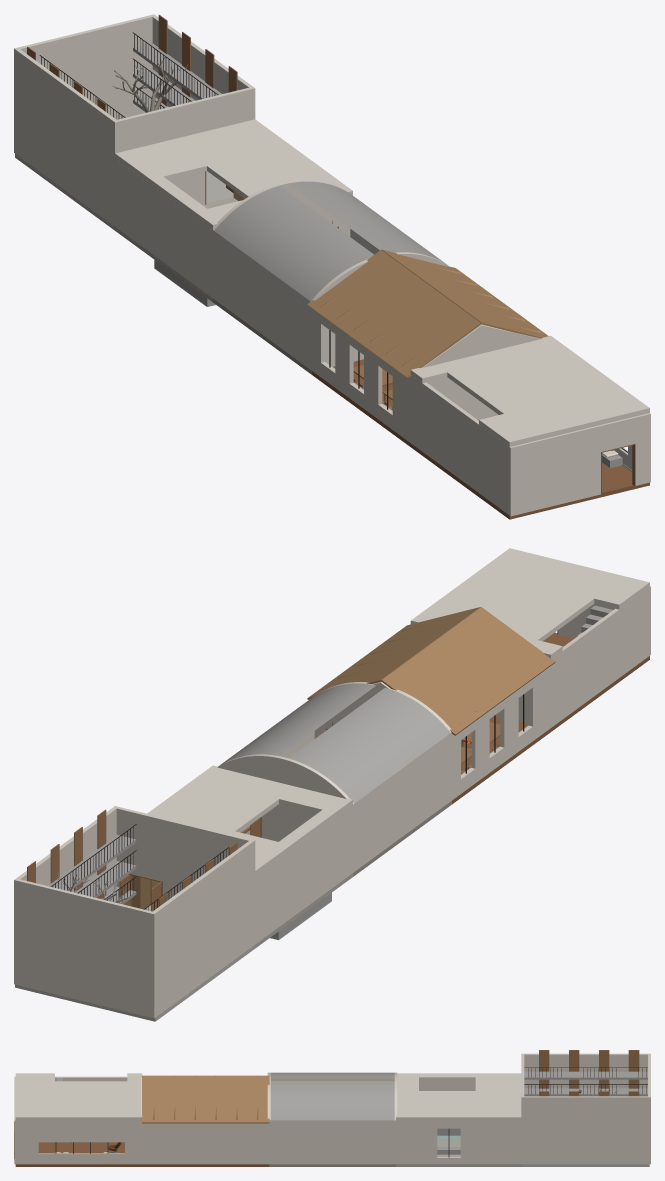
The model's file is orrel.glb.
The picture shows the model from 3 angles, top to bottom: view 1: azimuth 30°, elevation 25°; view 2: azimuth 150°, elevation 25°; view 3: azimuth 270°, elevation 25°; orthographic projection. The views are drawn at different scales.
Parts seen in each view (by area): view 1: plaster, roof_plaster, concrete, roof_timber, floor, oak, dark, stone, bark; view 2: plaster, roof_plaster, concrete, roof_timber, oak, dark, floor, timber, stone; view 3: plaster, roof_plaster, concrete, roof_timber, oak, floor, dark, tile, stone, cellar.
Part boxes in pixels (box(x1,y1,x2,y2)): plaster: box(14, 14, 650, 516); roof_plaster: box(115, 119, 649, 446); concrete: box(133, 43, 622, 468); roof_timber: box(307, 249, 548, 378); floor: box(312, 359, 649, 519); oak: box(27, 14, 635, 494); dark: box(39, 32, 627, 452); stone: box(15, 154, 627, 455); bark: box(113, 57, 188, 112); plaster: box(14, 586, 650, 1018); roof_plaster: box(147, 548, 649, 875); concrete: box(47, 605, 612, 939); roof_timber: box(307, 607, 555, 735); oak: box(27, 630, 558, 911); dark: box(50, 694, 524, 911); floor: box(452, 632, 649, 804); timber: box(131, 625, 541, 909); stone: box(15, 725, 528, 1021); plaster: box(14, 1053, 650, 1164); roof_plaster: box(15, 1073, 521, 1120); concrete: box(57, 1071, 647, 1154); roof_timber: box(142, 1075, 269, 1123); oak: box(14, 1050, 639, 1158); floor: box(15, 1142, 269, 1166); dark: box(39, 1067, 647, 1157); tile: box(396, 1139, 522, 1166); stone: box(39, 1153, 649, 1166); cellar: box(269, 1164, 395, 1166).
Bounding box in the file's own units: 9.54 × 8.11 × 55.27.
56 materials, 37 textured.
